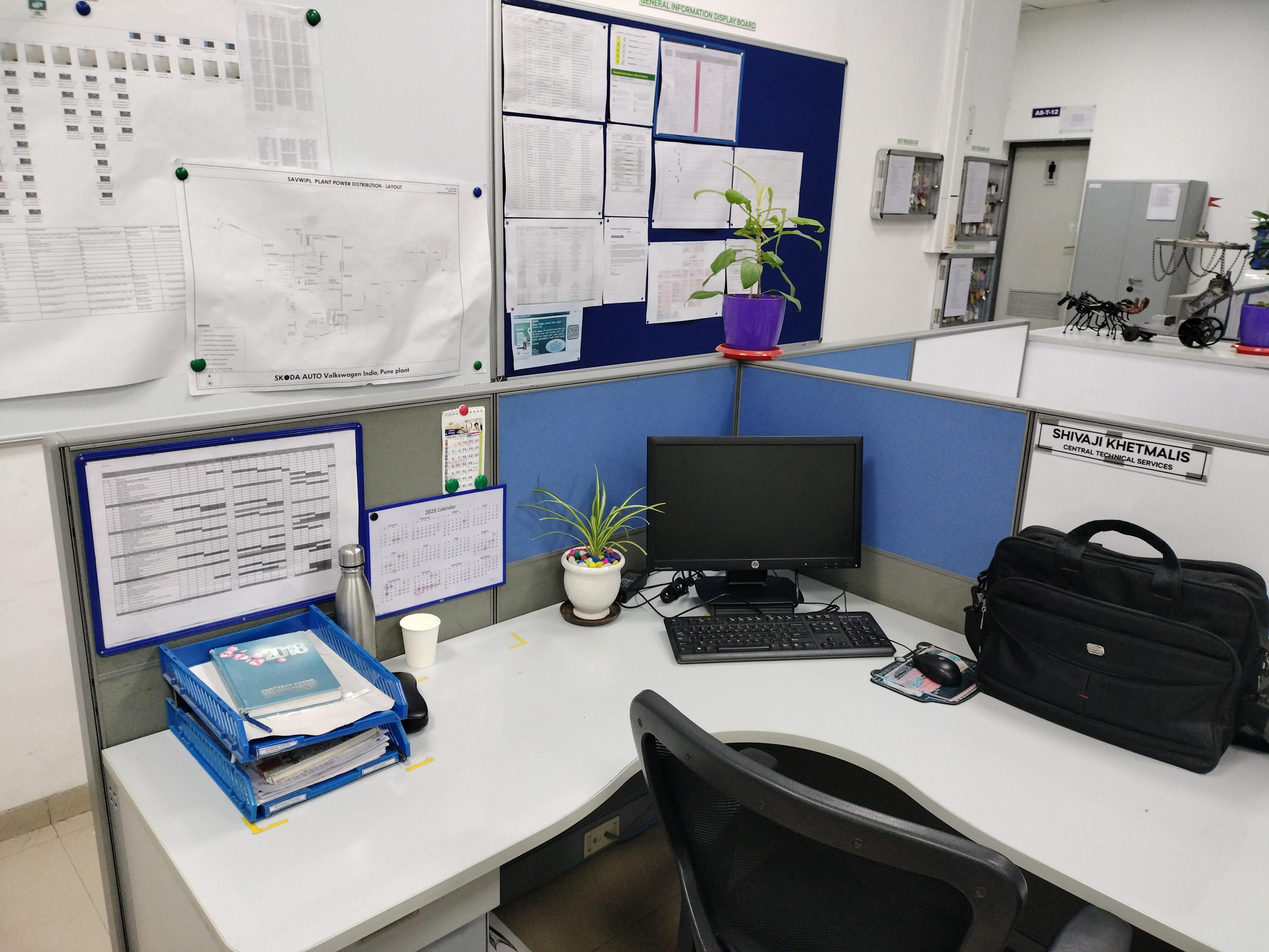bag: (962, 519, 1269, 778)
book: (209, 628, 344, 723), (255, 728, 381, 787)
bottle: (334, 542, 377, 658)
calender: (365, 483, 508, 622), (441, 403, 486, 494)
desktop: (645, 435, 865, 609)
filetray: (155, 603, 413, 828)
keyboard: (662, 610, 899, 666)
mouse: (913, 652, 963, 687)
mug: (397, 612, 441, 670)
nameplate: (1028, 414, 1221, 490)
page: (74, 422, 365, 660), (189, 627, 391, 743), (237, 723, 393, 810)
vase: (713, 291, 789, 361), (561, 544, 626, 622)
